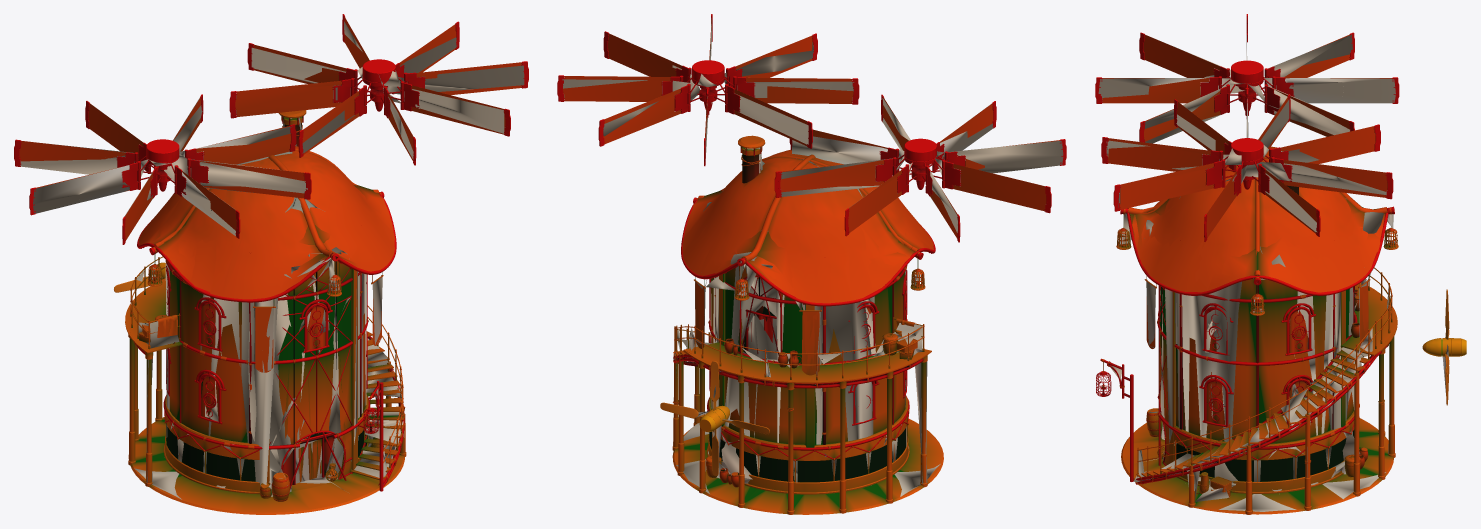
File: KiteB.glb
3 views of the same model, side by side, from view 1: azimuth 30°, elevation 25°; view 2: azimuth 150°, elevation 25°; view 3: azimuth 270°, elevation 25° (orthographic).
Parts seen in each view (by area): view 1: L0, L2, L1; view 2: L0, L2, L1; view 3: L0, L2, L1.
Boxes of the visible parts, x1=… form: L0: x1=14, y1=14, x2=528, y2=514; L2: x1=20, y1=21, x2=524, y2=499; L1: x1=15, y1=15, x2=527, y2=510; L0: x1=557, y1=14, x2=1066, y2=514; L2: x1=562, y1=18, x2=1063, y2=496; L1: x1=558, y1=14, x2=1065, y2=509; L0: x1=1095, y1=14, x2=1466, y2=514; L2: x1=1098, y1=34, x2=1448, y2=511; L1: x1=1096, y1=23, x2=1451, y2=509.
Size of the model in its own units: 22.07 by 16.39 by 15.05.
